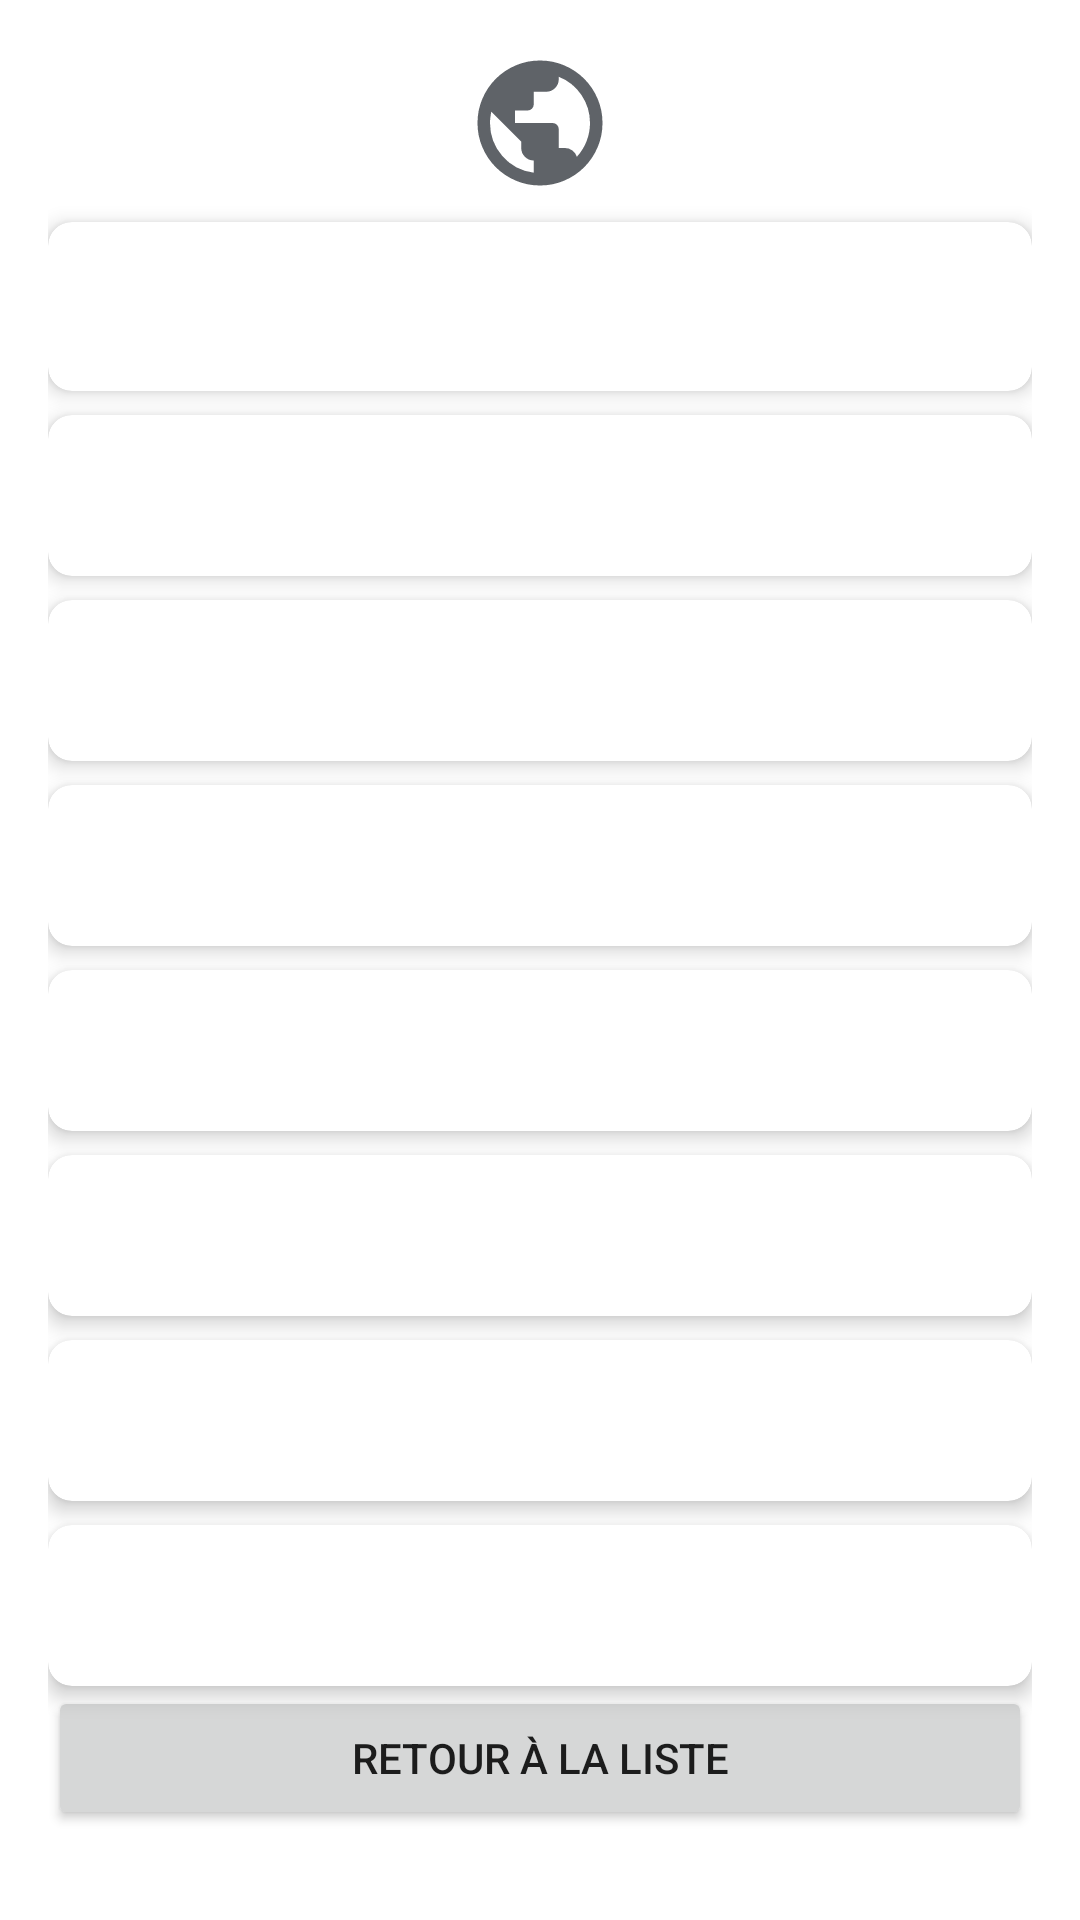

Locate icon controls on the screen. Image size 1080px×1920px, boxes as (x1, y1, x2, y2).
Image de la planet: (477, 60, 603, 186)
